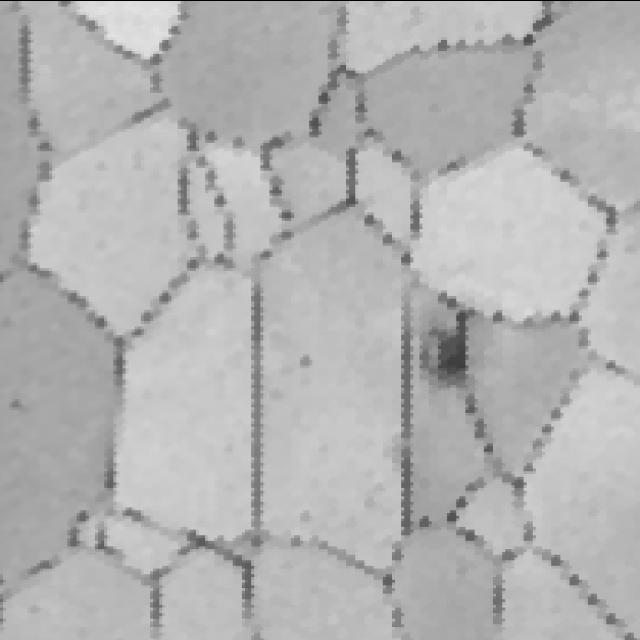good_void: (413, 320, 474, 386), (3, 394, 37, 416), (294, 351, 315, 372)
